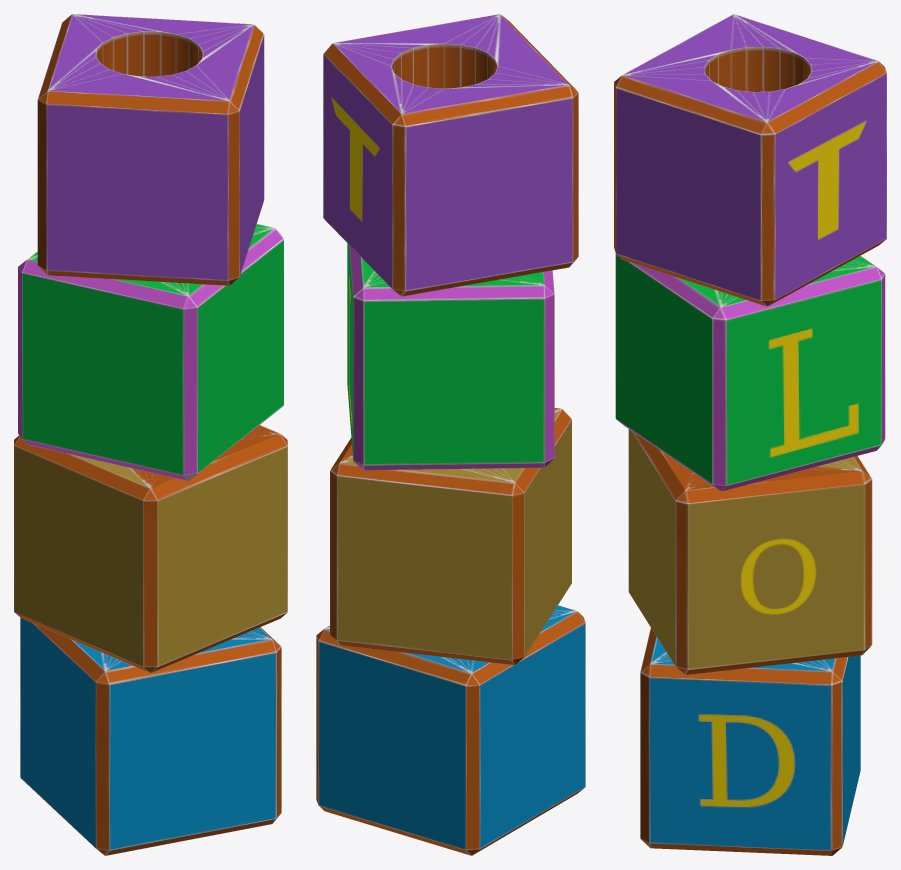
File: Obj_vid_15_cubs_joguina_low_poly.fbx
The picture shows the model from 3 angles, left to right: view 1: azimuth 30°, elevation 25°; view 2: azimuth 150°, elevation 25°; view 3: azimuth 270°, elevation 25°; orthographic projection.
Parts seen in each view (by area): view 1: Obj_vid_15_cubs_joguina_low_poly; view 2: Obj_vid_15_cubs_joguina_low_poly; view 3: Obj_vid_15_cubs_joguina_low_poly.
Part boxes in pixels (bbox=[...]): Obj_vid_15_cubs_joguina_low_poly: bbox=[14, 14, 287, 855]; Obj_vid_15_cubs_joguina_low_poly: bbox=[316, 14, 585, 855]; Obj_vid_15_cubs_joguina_low_poly: bbox=[614, 14, 886, 855].
Size of the model in its own units: 0.1811 by 0.5459 by 0.1811.
